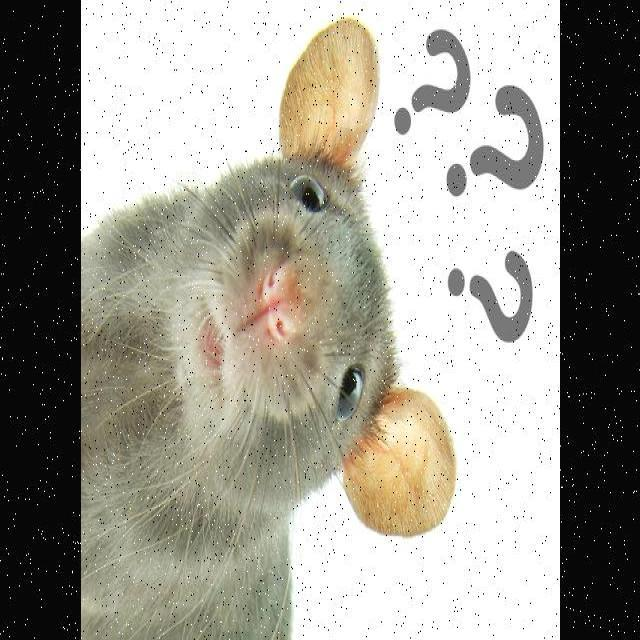rat: (80, 18, 455, 640)
